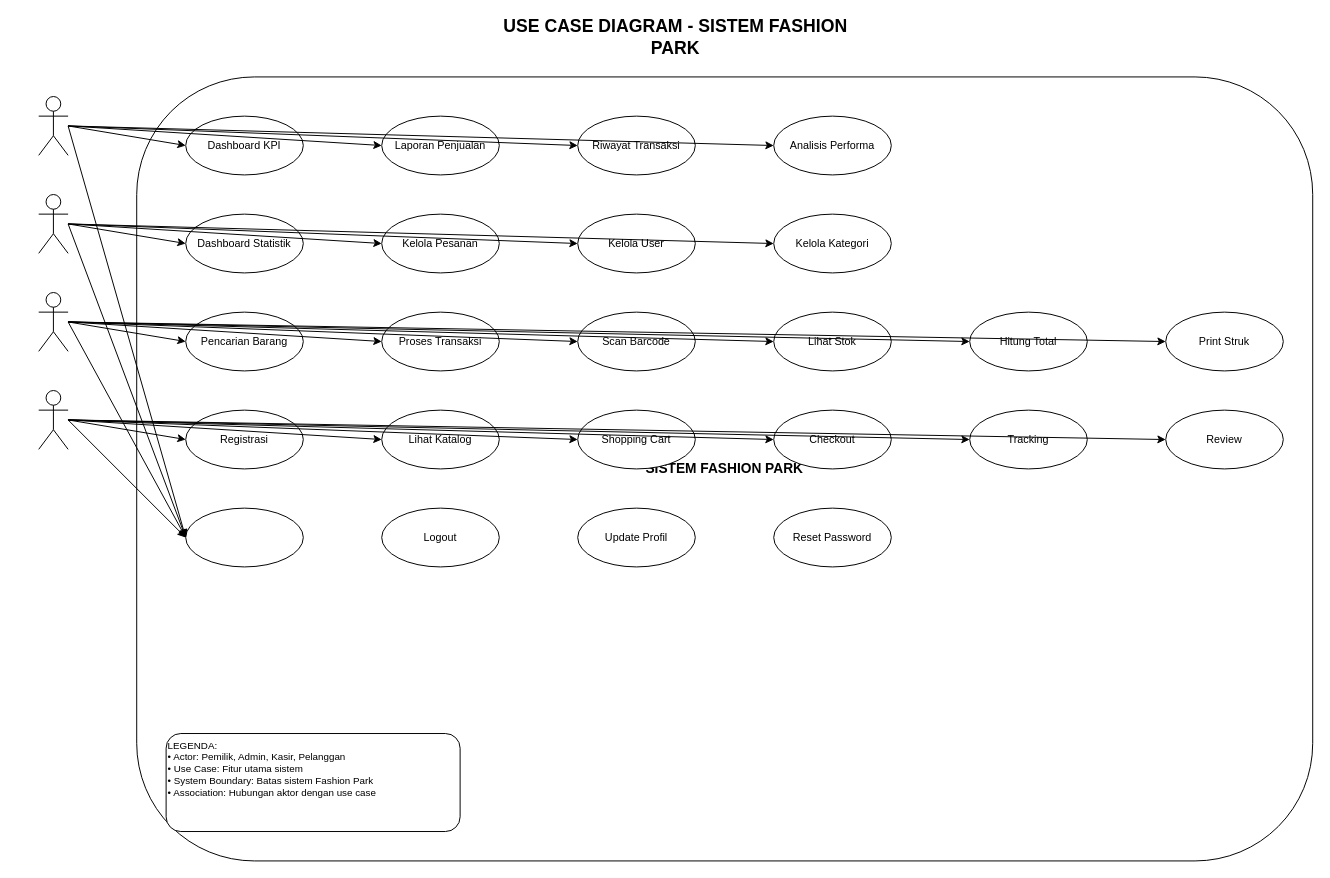
Image size: 1330x878. Some labels were removed from this diagram. Each missing label, with the box of its shape:
ADMIN: (38, 194, 68, 253)
KASIR: (38, 292, 68, 351)
Login: (185, 507, 303, 567)
PELANGGAN: (38, 390, 68, 449)
PEMILIK (OWNER): (38, 96, 68, 155)
